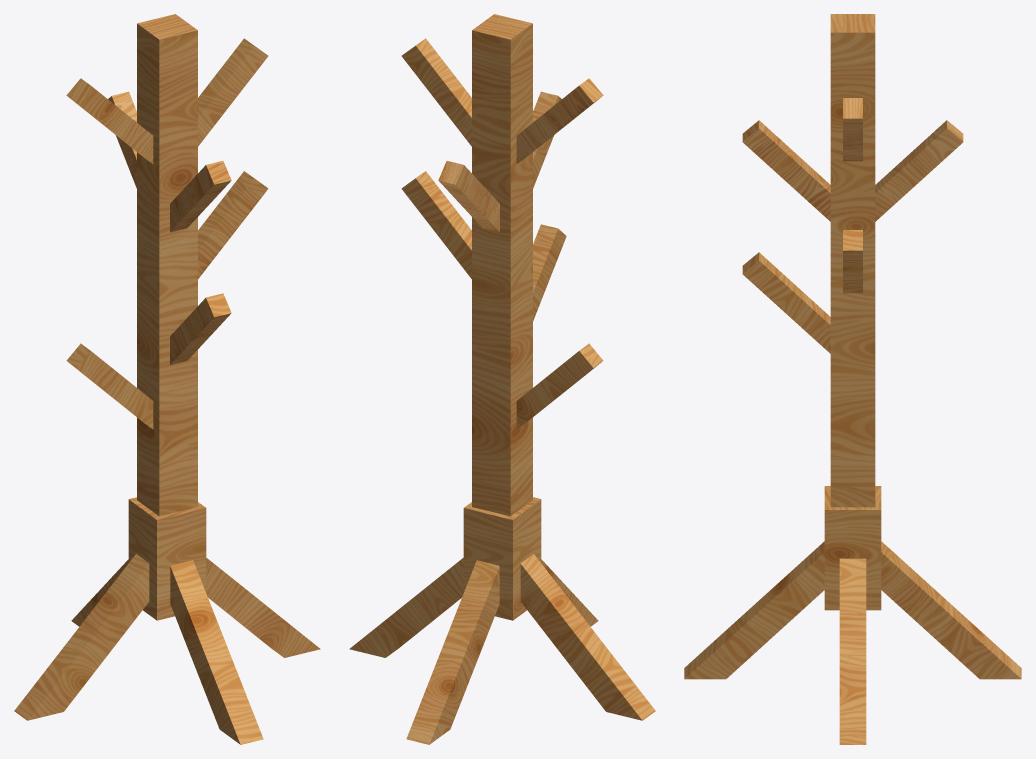
Rendered from Cloth_Hanger_Tree.fbx.
3 renders of one model, left to right at view 1: azimuth 30°, elevation 25°; view 2: azimuth 150°, elevation 25°; view 3: azimuth 270°, elevation 25°, orthographic.
Parts seen in each view (by area): view 1: Cloth_Hanger_Tree; view 2: Cloth_Hanger_Tree; view 3: Cloth_Hanger_Tree.
Part boxes in pixels (x1,y1,x2,y2): Cloth_Hanger_Tree: (14,14,320,744); Cloth_Hanger_Tree: (349,14,655,744); Cloth_Hanger_Tree: (684,14,1021,744).
Bounding box in the file's own units: 92.63 × 197 × 92.63.
